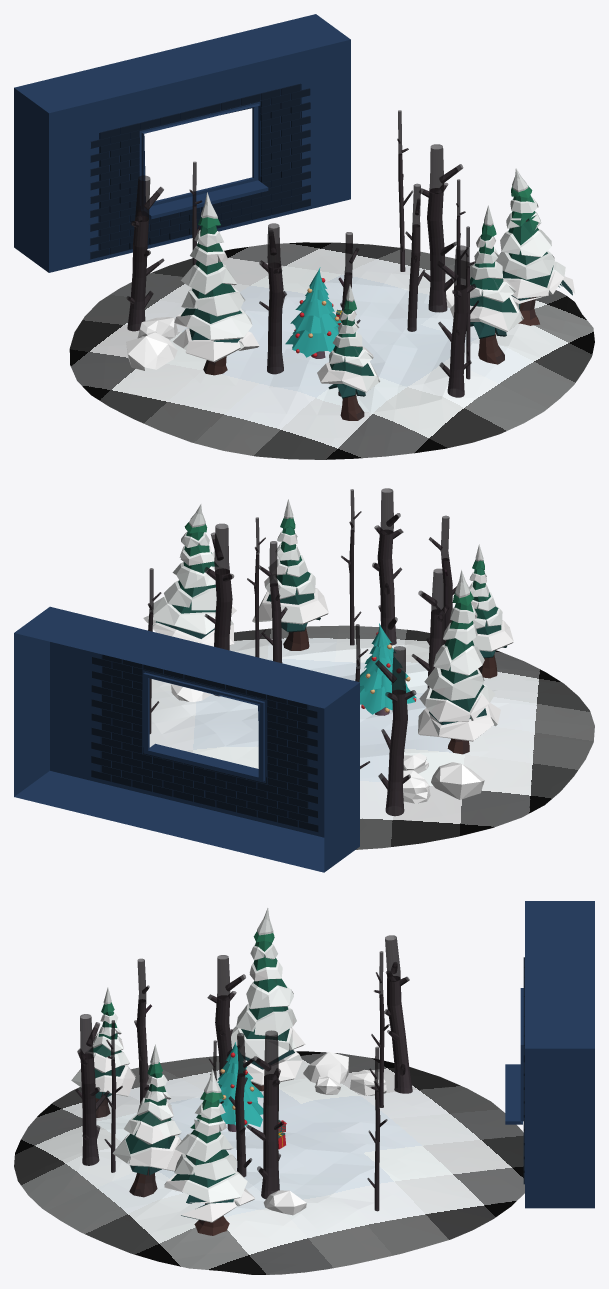
Rendered from SnowScene.glb.
The picture shows the model from 3 angles, top to bottom: view 1: azimuth 30°, elevation 25°; view 2: azimuth 150°, elevation 25°; view 3: azimuth 270°, elevation 25°; orthographic projection. The views are drawn at different scales.
Visible parts, largest first — view 1: Plateau, Wall, Bricks, Pine3 Snow.002, Pine3 Snow.001, Pine2_Snow.001, Pine2_Snow.002, Christmast_tree, Cylinder.096, Cylinder.063, Cylinder.119, Cylinder.054 (+4 smaller); view 2: Wall, Plateau, Bricks, Pine3 Snow.002, Pine3 Snow.001, Pine2_Snow.001, Pine2_Snow.002, Cylinder.063, Christmast_tree, Cylinder.119, Cylinder.096, Bush_winter_010.001 (+6 smaller); view 3: Plateau, Wall, Pine3 Snow.001, Pine3 Snow.002, Pine2_Snow.001, Pine2_Snow.002, Cylinder.096, Cylinder.063, Cylinder.119, Christmast_tree, Cylinder.054, Cylinder.042 (+7 smaller).
Part boxes in pixels (x1,y1,x2,y2): Plateau: (69,242,594,459); Wall: (14,14,350,272); Bricks: (90,84,310,259); Pine3 Snow.002: (173,192,259,375); Pine3 Snow.001: (495,168,574,325); Pine2_Snow.001: (450,205,523,364); Pine2_Snow.002: (317,284,380,420); Christmast_tree: (285,267,341,358); Cylinder.096: (427,144,447,312); Cylinder.063: (127,175,150,331); Cylinder.119: (447,245,468,397); Cylinder.054: (267,223,283,374); Wall: (14,606,359,872); Plateau: (149,625,594,849); Bricks: (91,654,318,831); Pine3 Snow.002: (418,570,500,754); Pine3 Snow.001: (143,504,236,646); Pine2_Snow.001: (252,499,328,650); Pine2_Snow.002: (469,544,513,678); Cylinder.063: (385,646,407,816); Christmast_tree: (359,623,416,715); Cylinder.119: (377,488,396,645); Cylinder.096: (213,523,232,696); Bush_winter_010.001: (431,762,484,799); Plateau: (14,1051,524,1274); Wall: (505,901,594,1208); Pine3 Snow.001: (164,1069,255,1235); Pine3 Snow.002: (231,908,304,1091); Pine2_Snow.001: (112,1044,182,1197); Pine2_Snow.002: (71,987,135,1117); Cylinder.096: (261,1030,279,1199); Cylinder.063: (385,935,412,1093); Cylinder.119: (80,1014,99,1165); Christmast_tree: (217,1042,263,1131); Cylinder.054: (215,955,231,1076); Cylinder.042: (235,1033,246,1177).
Size of the model in its own units: 11.36 by 4.67 by 12.46.
15 materials, 3 textured.
